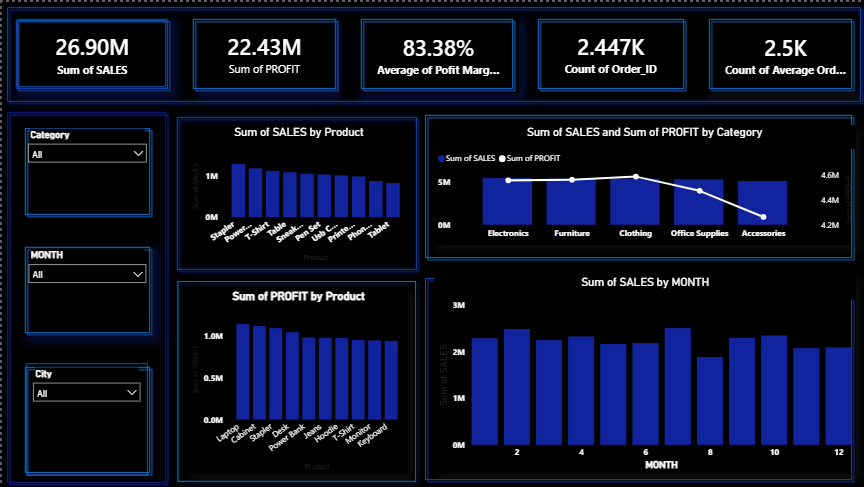

The dashboard page shown, as its layout file describes it:
{"tool":"powerbi","page":{"name":"Page 1","canvas":[1280,720],"ordinal":0},"visuals":[{"type":"shape","box":[0,155.6,251.1,564.4],"z":0},{"type":"shape","box":[0,0,1280,155.6],"z":1},{"type":"shape","box":[526.7,20,235.6,113.3],"z":2},{"type":"shape","box":[788.9,20,226.7,113.3],"z":3},{"type":"shape","box":[1042.2,20,222.2,113.3],"z":4},{"type":"shape","box":[277.8,20,222.2,113.3],"z":5},{"type":"shape","box":[15.6,20,235.6,113.3],"z":6},{"type":"shape","box":[28.9,182.2,195.6,137.8],"z":7},{"type":"shape","box":[28.9,357.8,195.6,137.8],"z":8},{"type":"shape","box":[28.9,535.6,195.6,166.7],"z":9},{"type":"shape","box":[251.1,162.2,371.1,242.2],"z":10},{"type":"shape","box":[251,405,371,315],"z":12},{"type":"shape","box":[622.2,404.4,642.2,308.9],"z":13},{"type":"shape","box":[622.2,162.2,642.2,222.2],"z":14},{"type":"cardVisual","fields":{"Data":["Sum(SALES (3).SALES)"]},"box":[15.6,20,235.6,113.3],"z":15},{"type":"cardVisual","fields":{"Data":["Sum(SALES (3).PROFIT)"]},"box":[286.7,20,204.4,113.3],"z":16},{"type":"cardVisual","fields":{"Data":["Avg(SALES (3).Pofit Margin %)"]},"box":[526.7,20,240,115.6],"z":17},{"type":"cardVisual","fields":{"Data":["CountNonNull(SALES (3).Order_ID)"]},"box":[788.9,20,226.7,113.3],"z":18},{"type":"cardVisual","fields":{"Data":["Sum(SALES (3).Average Order Value)"]},"box":[1042.2,20,237.8,115.6],"z":19},{"type":"slicer","fields":{"Values":["SALES (3).Category"]},"box":[28.9,182.2,195.6,137.8],"z":20},{"type":"slicer","fields":{"Values":["SALES (3).MONTH"]},"box":[28.9,360,195.6,135.6],"z":21},{"type":"slicer","fields":{"Values":["SALES (3).City"]},"box":[35.6,535.6,180,166.7],"z":22},{"type":"clusteredColumnChart","fields":{"Category":["SALES (3).MONTH"],"Y":["Sum(SALES (3).SALES)"]},"box":[640,404.4,624.4,295.6],"z":24},{"type":"clusteredColumnChart","fields":{"Category":["SALES (3).Product"],"Y":["Sum(SALES (3).SALES)"]},"box":[275.6,182.2,328.9,206.7],"z":27},{"type":"clusteredColumnChart","fields":{"Category":["SALES (3).Product"],"Y":["Sum(SALES (3).PROFIT)"]},"box":[275.6,424.4,326.7,275.6],"z":28},{"type":"lineClusteredColumnComboChart","fields":{"Category":["SALES (3).Category"],"Y":["Sum(SALES (3).SALES)"],"Y2":["Sum(SALES (3).PROFIT)"]},"box":[640,182.2,624.4,177.8],"z":29}]}

Visuals, with their boxes in screenshot pixels (x1, y1, x2, y2), scaled from the page's 1280x720 canvas onto the 864x487 screenshot:
shape: 0,105,169,486
shape: 0,0,863,105
shape: 356,14,515,90
shape: 533,14,686,90
shape: 703,14,853,90
shape: 188,14,338,90
shape: 11,14,170,90
shape: 20,123,152,216
shape: 20,242,152,335
shape: 20,362,152,475
shape: 169,110,420,274
shape: 169,274,420,486
shape: 420,274,853,482
shape: 420,110,853,260
cardVisual - Sum(SALES (3).SALES): 11,14,170,90
cardVisual - Sum(SALES (3).PROFIT): 194,14,331,90
cardVisual - Avg(SALES (3).Pofit Margin %): 356,14,518,92
cardVisual - CountNonNull(SALES (3).Order_ID): 533,14,686,90
cardVisual - Sum(SALES (3).Average Order Value): 703,14,863,92
slicer - SALES (3).Category: 20,123,152,216
slicer - SALES (3).MONTH: 20,244,152,335
slicer - SALES (3).City: 24,362,146,475
clusteredColumnChart - SALES (3).MONTH x Sum(SALES (3).SALES): 432,274,853,473
clusteredColumnChart - SALES (3).Product x Sum(SALES (3).SALES): 186,123,408,263
clusteredColumnChart - SALES (3).Product x Sum(SALES (3).PROFIT): 186,287,407,473
lineClusteredColumnComboChart - SALES (3).Category x Sum(SALES (3).SALES): 432,123,853,244
